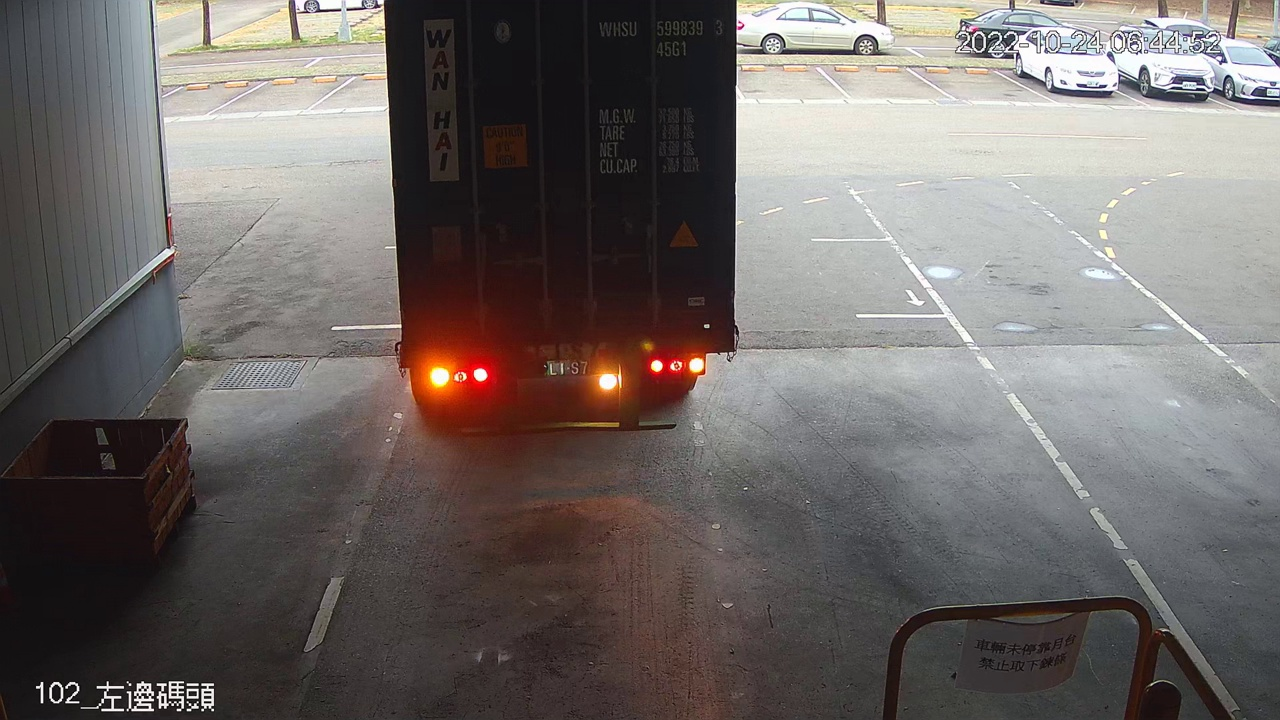container: (591, 12, 729, 63)
